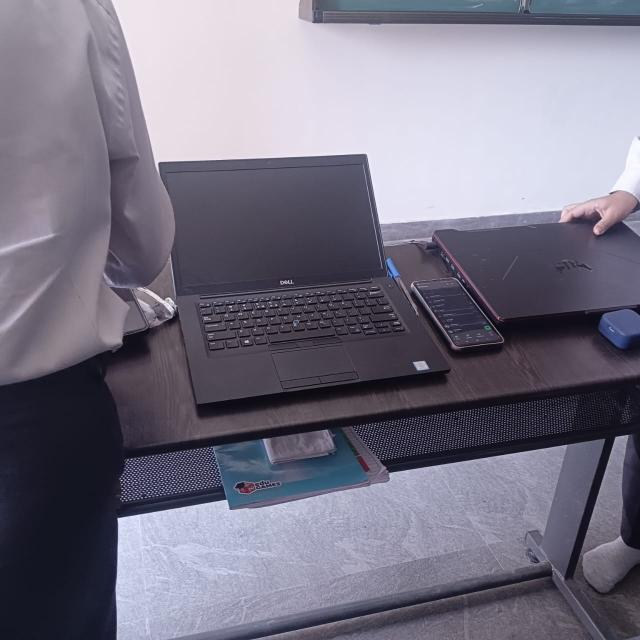laptop: (146, 156, 412, 426), (460, 208, 640, 316)
